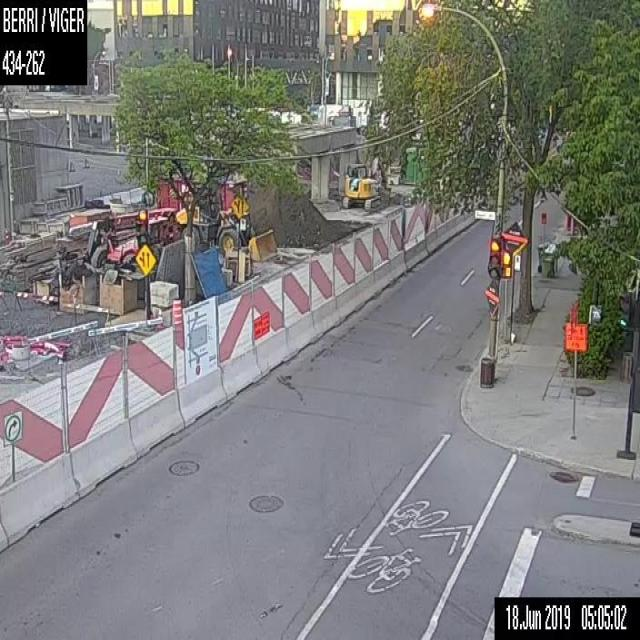construction: (0, 88, 518, 552), (563, 321, 587, 435), (171, 296, 184, 324)
